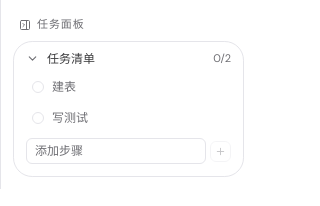
RightPanel › 可收起为窄条，收起后仍能看到步骤数
Click the button with aria-label "收起任务面板" at [128, 24], box [13,12,244,37]
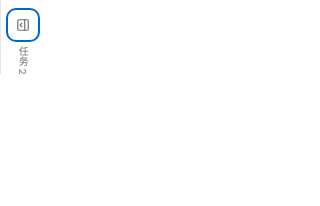
expect the text "建表" is gone: met
expect the button named "展开任务面板" is shown: met, box [10,12,36,38]
expect the text "任务 2" is shown: met, box [16,46,29,74]
